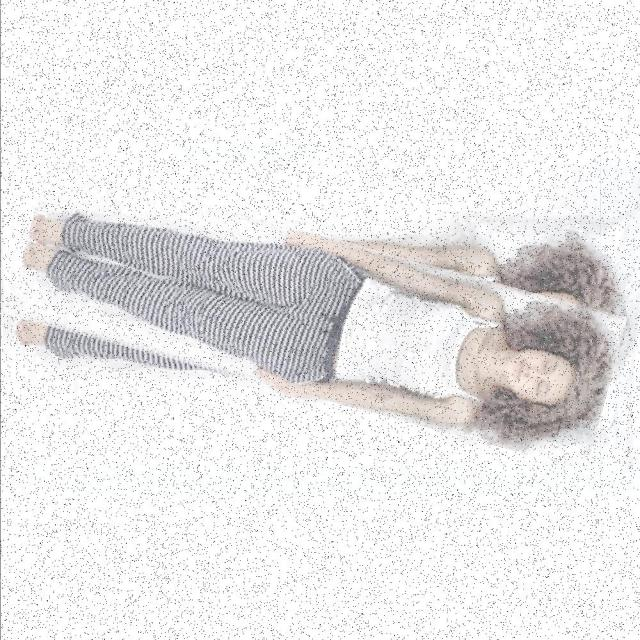Supine: (32, 214, 612, 441)
